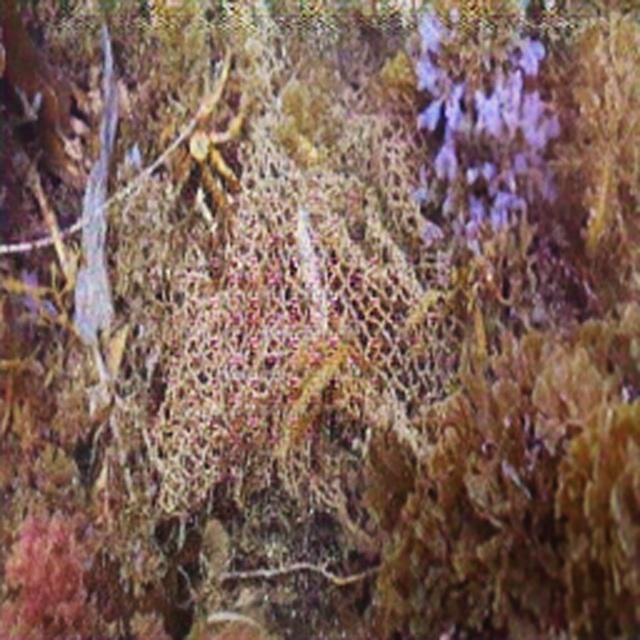mine: (149, 39, 467, 512)
